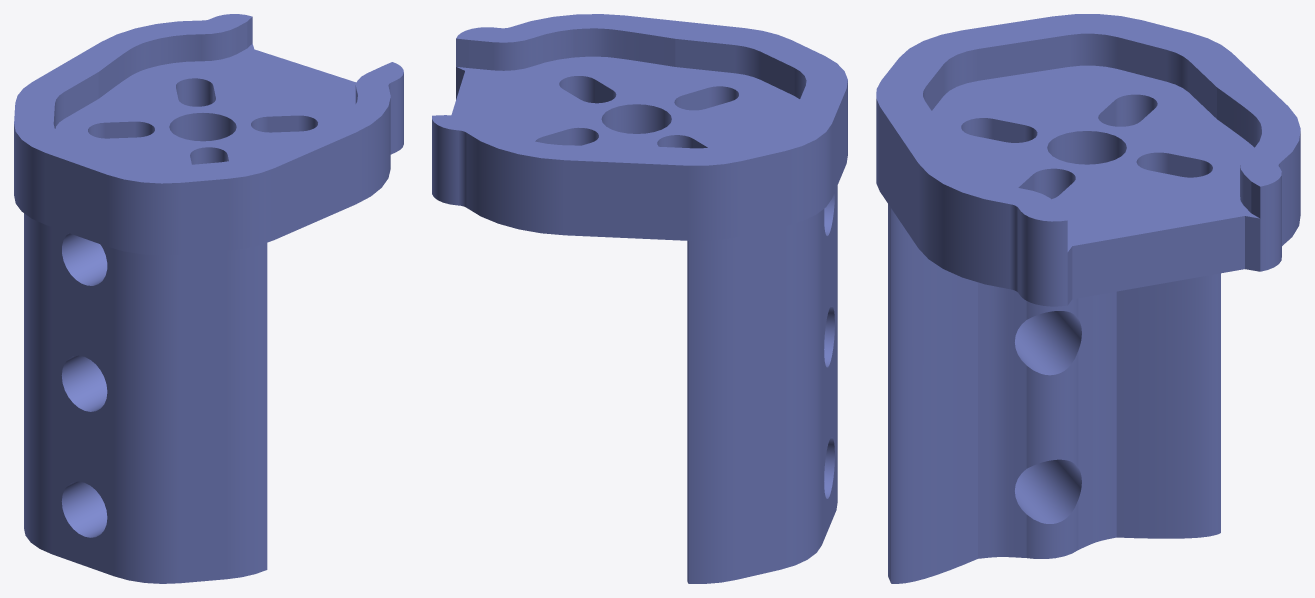
Rendered from blue_leg.dae.
The picture shows the model from 3 angles, left to right: view 1: azimuth 30°, elevation 25°; view 2: azimuth 150°, elevation 25°; view 3: azimuth 270°, elevation 25°; orthographic projection. The views are drawn at different scales.
Parts seen in each view (by area): view 1: blue_leg; view 2: blue_leg; view 3: blue_leg.
Part boxes in pixels (<box>): blue_leg: <box>14,14,403,583</box>; blue_leg: <box>432,14,847,583</box>; blue_leg: <box>876,14,1300,583</box>.
Size of the model in its own units: 0.0418 by 0.0362 by 0.045.
